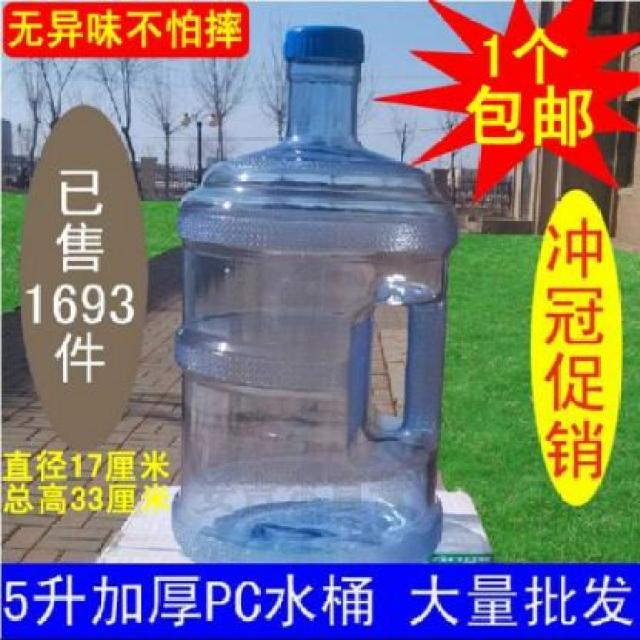coolerbottle: (166, 20, 464, 565)
